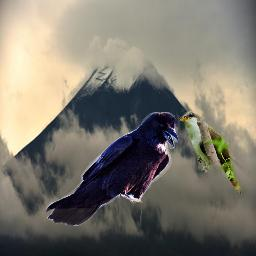Crow: (46, 112, 178, 226)
Cuckoo: (176, 111, 245, 194)
